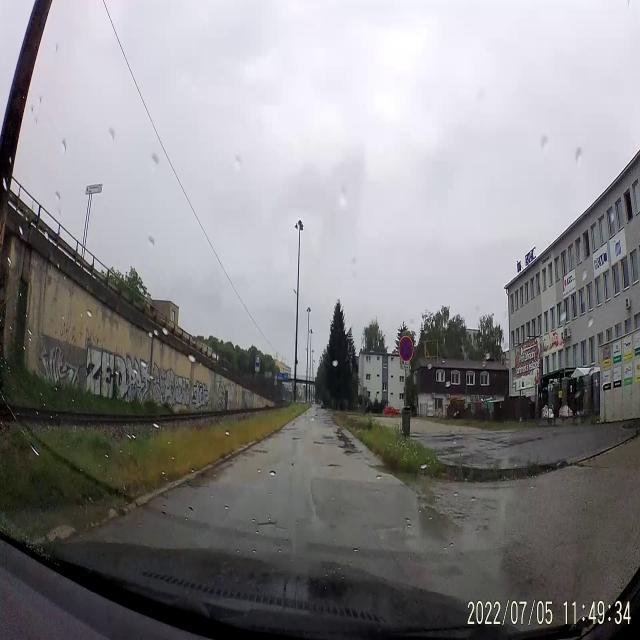Pothole: (254, 516, 284, 532), (366, 460, 395, 476), (322, 460, 346, 473), (250, 446, 272, 458), (312, 435, 326, 447), (288, 434, 301, 444)
